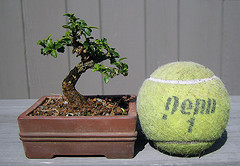tennis ball: (135, 60, 230, 157)
